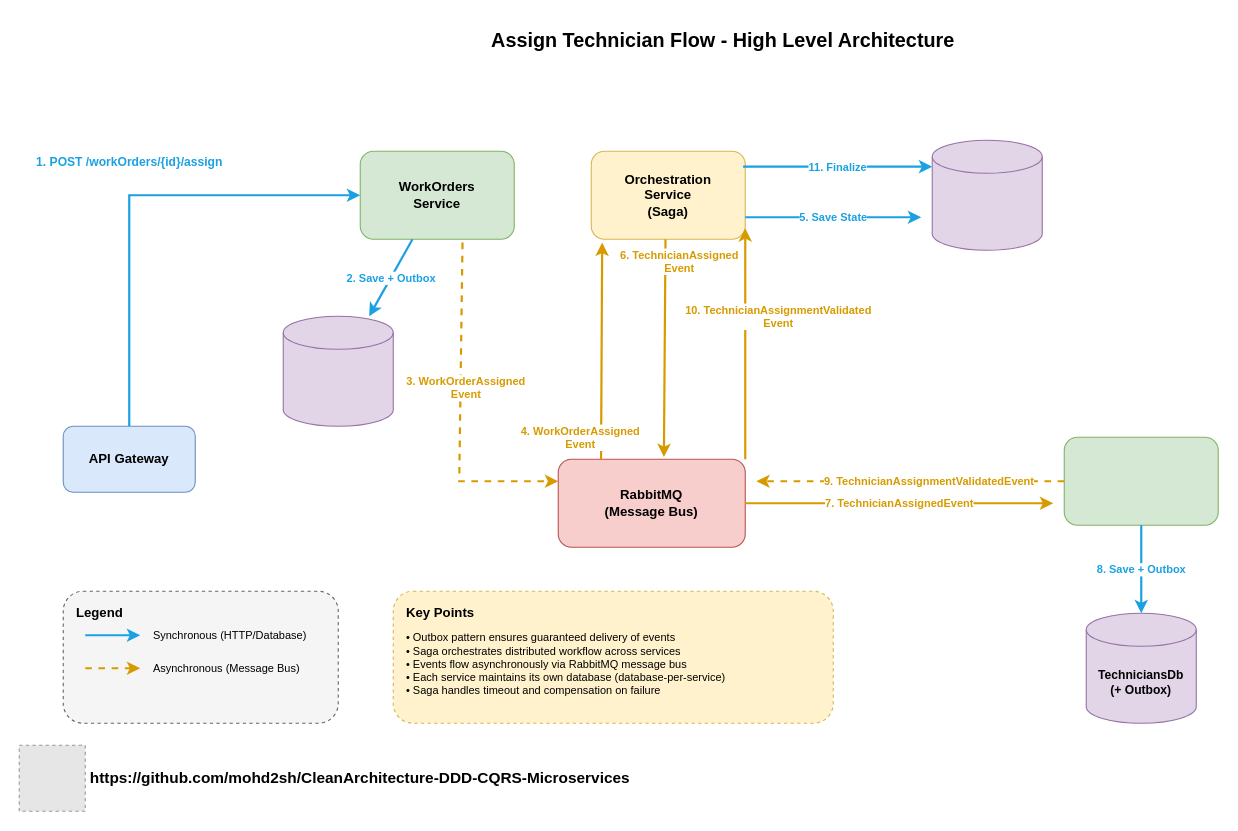
This 1238x831 diagram has some shape labels left out. Grey dashed boxes stand in for pictures. Here are the shapes that lost their labels. From the top down, the box of each, then its label:
(931, 139, 1042, 250): OrchestrationDb (Saga State)
(282, 315, 393, 426): WorkOrdersDb (+ Outbox)
(1063, 436, 1218, 525): Technicians Service
